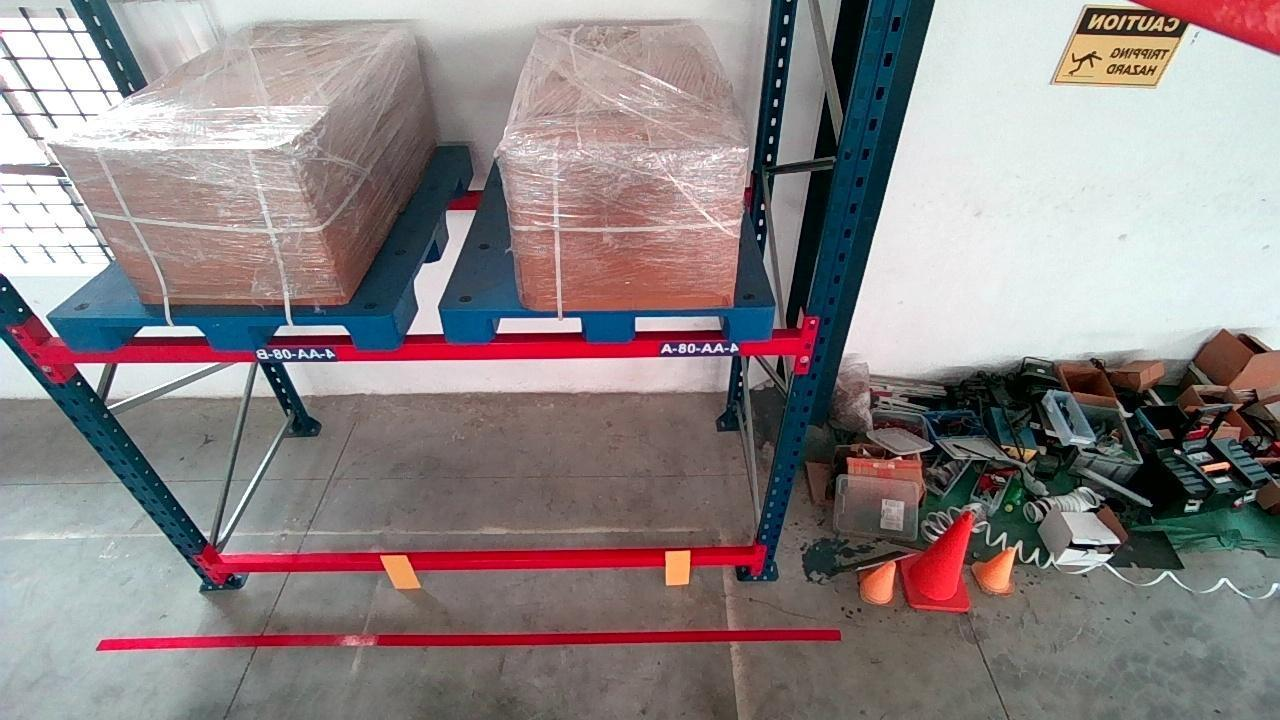h_rack: (42, 334, 802, 363), (215, 550, 753, 576)
orange_strip: (382, 553, 420, 588), (663, 549, 693, 583)
red_line: (94, 624, 843, 656)
small_pallet: (67, 312, 393, 350), (448, 308, 774, 342)
